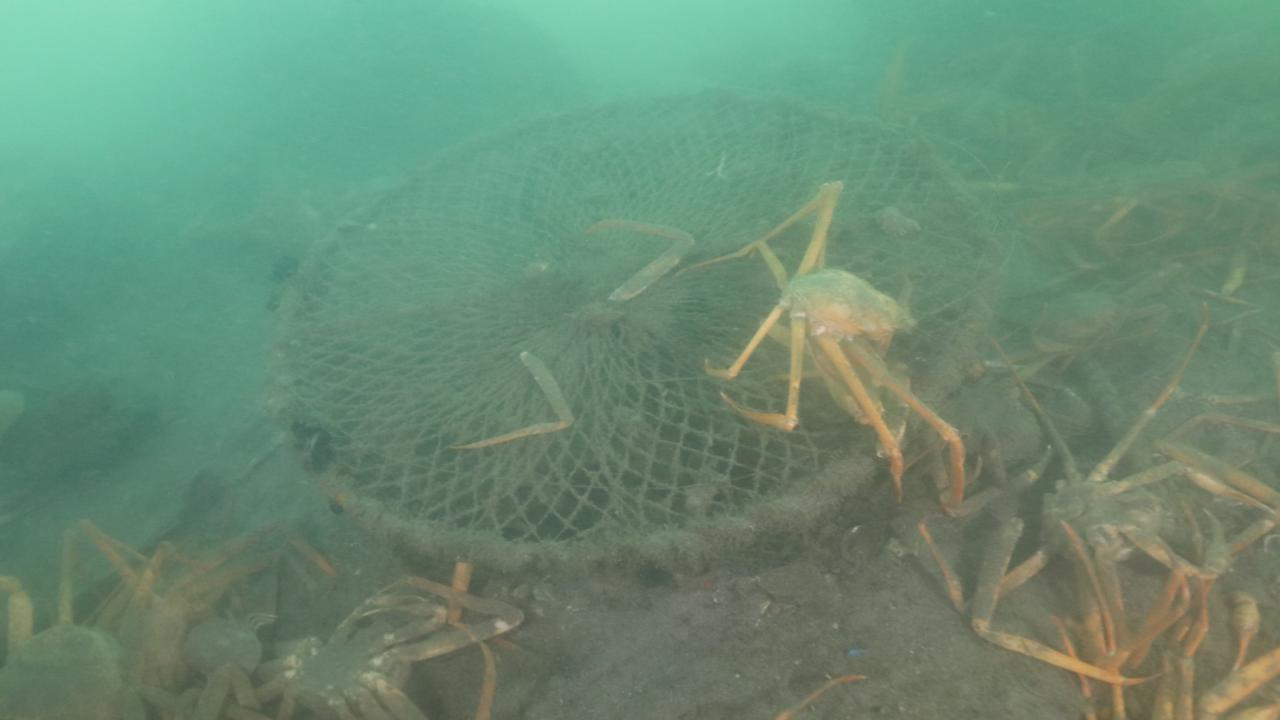circular fish trap: (269, 84, 1000, 576)
